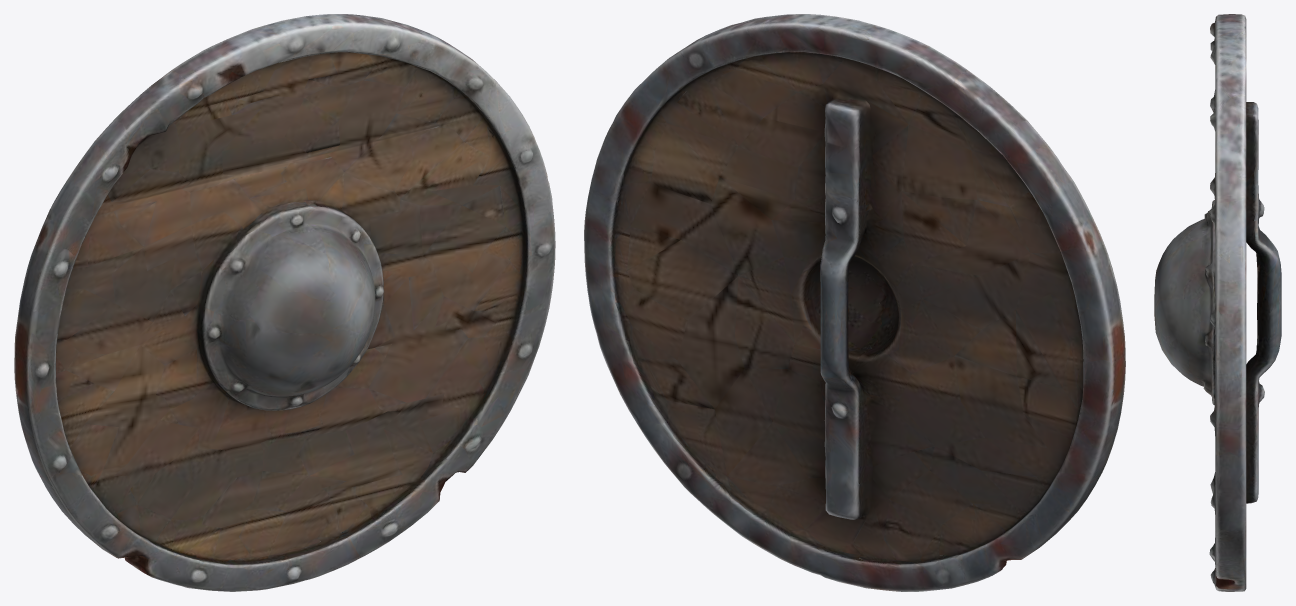
Rendered from PF_Shield1.glb.
The picture shows the model from 3 angles, left to right: view 1: azimuth 30°, elevation 25°; view 2: azimuth 150°, elevation 25°; view 3: azimuth 270°, elevation 25°; orthographic projection. The views are drawn at different scales.
Bounding box in the file's own units: 2.01 × 2.01 × 0.4434.
Materials: 1 (1 with a texture image).
